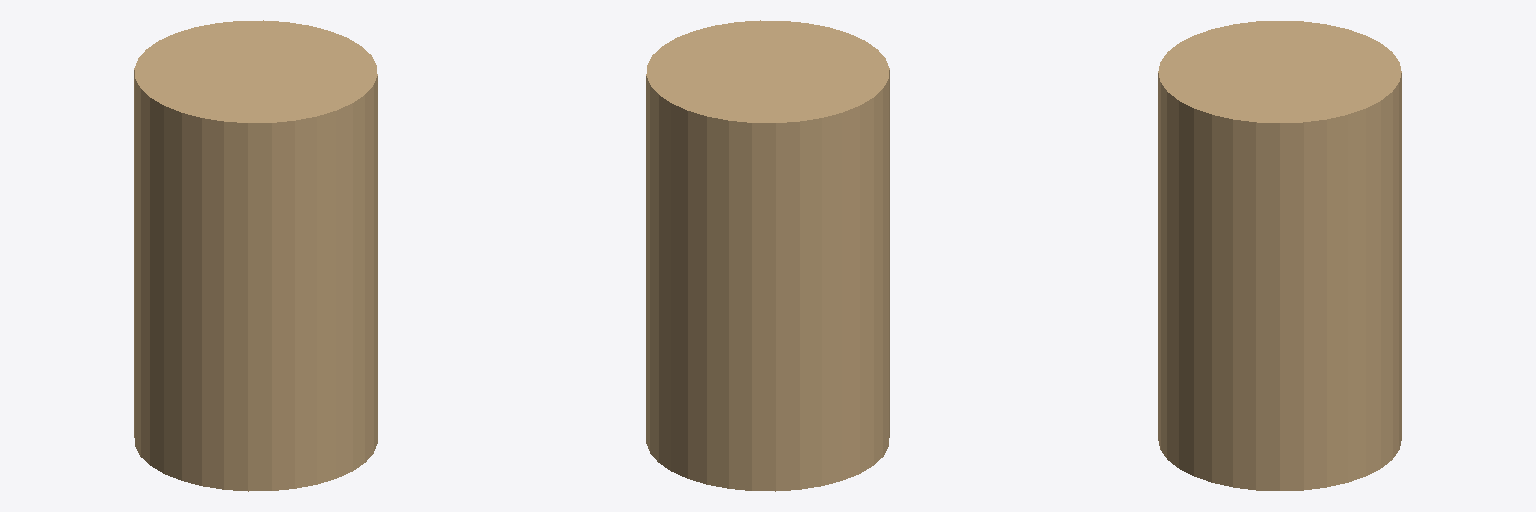
The robot description file, URDF, robot "cylinder":
<?xml version="1.0" ?>
<robot name="cylinder">
  <link name="base_link">
    <visual>
      <geometry>
        <cylinder radius="0.3" length="1.0"/>
      </geometry>
      <material name="brown">
        <color rgba="0.82 0.71 0.55 1.0"/> <!-- Brown color -->
      </material>
    </visual>
    <collision>
      <geometry>
        <cylinder radius="0.1" length="0.5"/>
      </geometry>
    </collision>
    <inertial>
      <mass value="0.0"/>
      <inertia ixx="0.0" ixy="0.0" ixz="0.0" iyy="0.0" iyz="0.0" izz="0.0"/>
    </inertial>
  </link>
</robot>

--- Render facts (derived) ---
The picture shows the robot from 3 angles, left to right: view 1: azimuth 30°, elevation 25°; view 2: azimuth 150°, elevation 25°; view 3: azimuth 270°, elevation 25°; orthographic projection.
Robot: cylinder — 1 links, 0 joints (none); root link base_link; default pose: every joint at zero.
Links seen in each view (by area): view 1: base_link; view 2: base_link; view 3: base_link.
Link boxes in pixels (<box>): base_link: <box>134,20,377,491</box>; base_link: <box>646,20,889,491</box>; base_link: <box>1158,21,1401,490</box>.
Size in the robot's own frame: 0.6 by 0.6 by 1 metres.
Geometry: primitives only (box / cylinder / sphere), no mesh files.